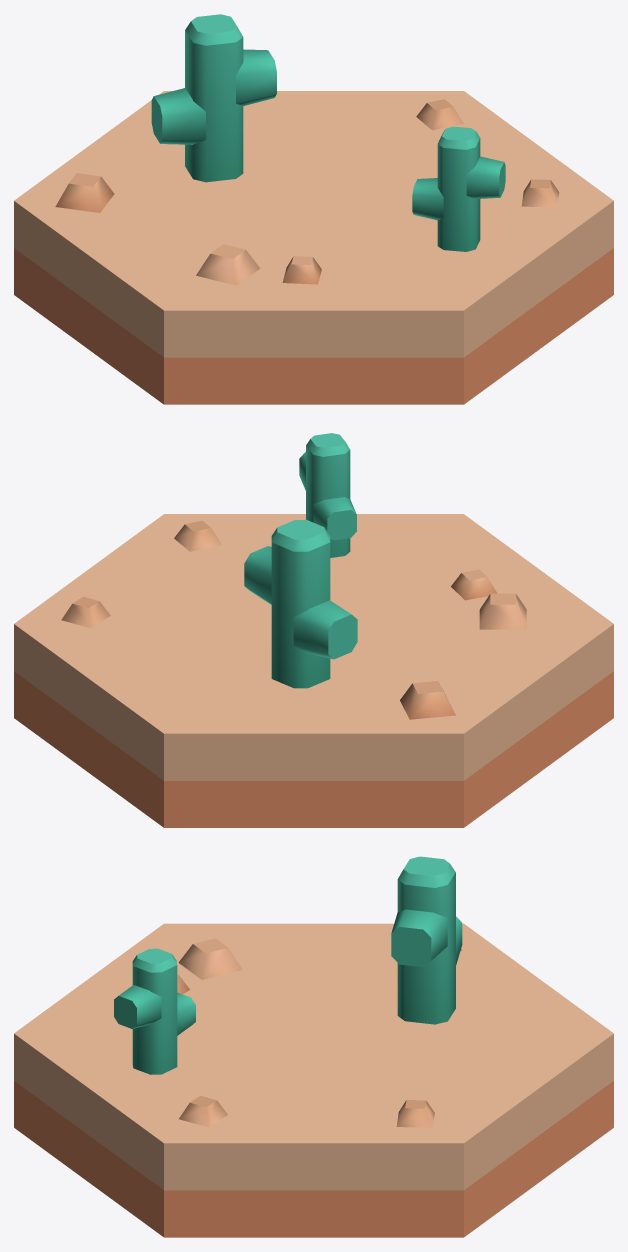
Rendered from kenney-hexagon-sand-desert.glb.
The picture shows the model from 3 angles, top to bottom: view 1: azimuth 30°, elevation 25°; view 2: azimuth 150°, elevation 25°; view 3: azimuth 270°, elevation 25°; orthographic projection.
Visible parts, largest first — view 1: sand_desert; view 2: sand_desert; view 3: sand_desert.
Part boxes in pixels (<box>): sand_desert: <box>14,14,613,404</box>; sand_desert: <box>14,433,613,827</box>; sand_desert: <box>14,856,613,1237</box>.
Size of the model in its own units: 1 by 0.51 by 1.15.
Materials: 1 (1 with a texture image).
